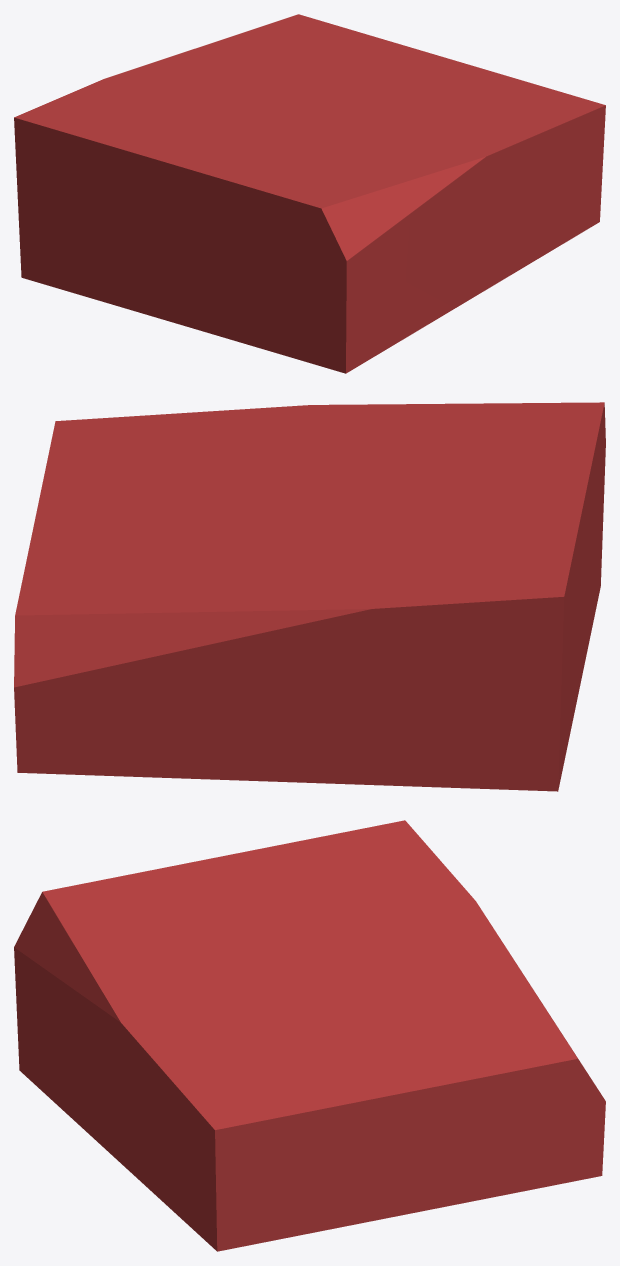
The model's file is ea_arch_wall03_rubble_01b_pre__21__4_lev1.glb.
3 views of the same model, one above another, from view 1: azimuth 30°, elevation 25°; view 2: azimuth 150°, elevation 25°; view 3: azimuth 270°, elevation 25° (orthographic). The views are drawn at different scales.
Visible parts, largest first — view 1: ea_arch_wall03_rubble_01b_pre__21__4_lev1; view 2: ea_arch_wall03_rubble_01b_pre__21__4_lev1; view 3: ea_arch_wall03_rubble_01b_pre__21__4_lev1.
Part boxes in pixels (x1=…): ea_arch_wall03_rubble_01b_pre__21__4_lev1: x1=14, y1=14, x2=605, y2=373; ea_arch_wall03_rubble_01b_pre__21__4_lev1: x1=14, y1=402, x2=605, y2=791; ea_arch_wall03_rubble_01b_pre__21__4_lev1: x1=14, y1=820, x2=605, y2=1251.
Size of the model in its own units: 0.1208 by 0.0371 by 0.1154.
Materials: 1 (1 with a texture image).
